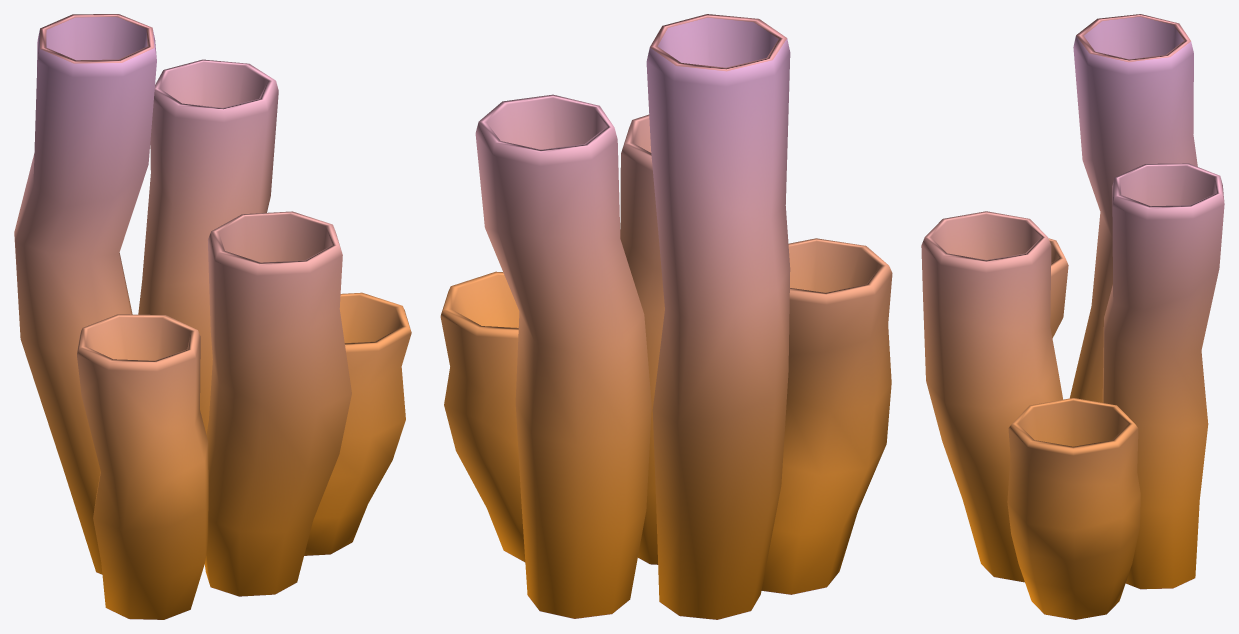
Rendered from MOD_Coral7.fbx.
The picture shows the model from 3 angles, left to right: view 1: azimuth 30°, elevation 25°; view 2: azimuth 150°, elevation 25°; view 3: azimuth 270°, elevation 25°; orthographic projection. The views are drawn at different scales.
Visible parts, largest first — view 1: MOD_Coral7_LOD0; view 2: MOD_Coral7_LOD0; view 3: MOD_Coral7_LOD0.
Boxes of the visible parts, x1,y1,x2,y2 form: MOD_Coral7_LOD0: [14, 14, 411, 619]; MOD_Coral7_LOD0: [440, 14, 892, 619]; MOD_Coral7_LOD0: [921, 14, 1224, 619].
Size of what is drawn, in the model's own units: 2.62 by 3.65 by 2.08.
